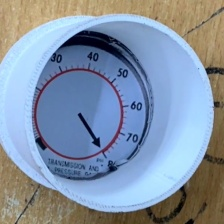gauge: (32, 39, 149, 178)
